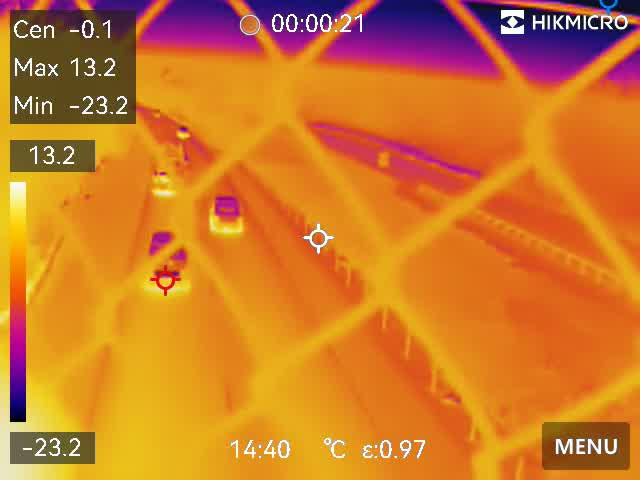vehicle: (145, 229, 196, 299), (208, 191, 249, 243), (173, 121, 193, 146)
